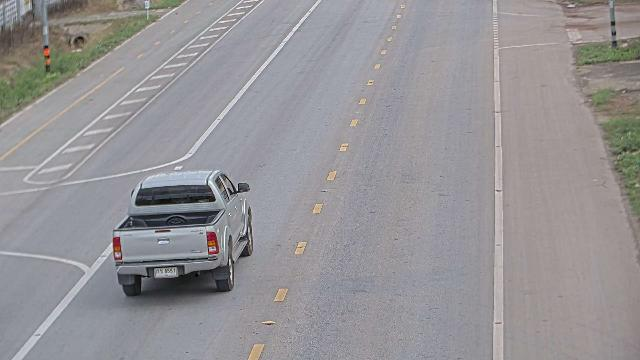pickup-truck: (111, 168, 254, 296)
